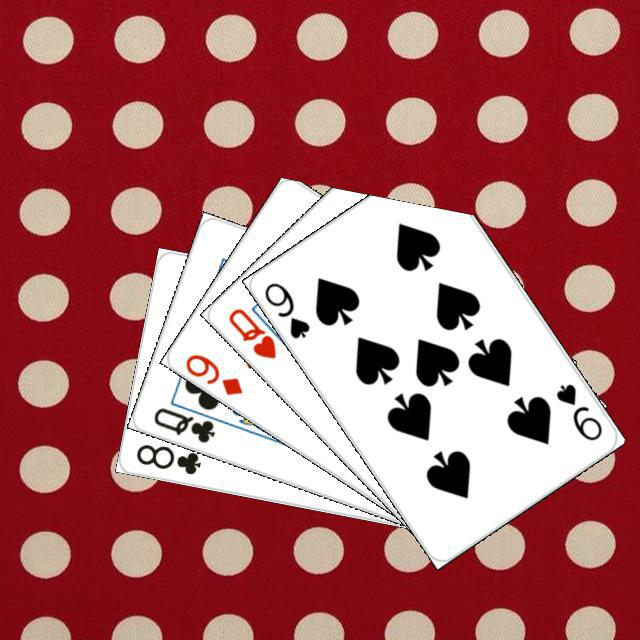8c: (131, 439, 203, 476)
9d: (180, 349, 245, 398)
9s: (551, 378, 604, 443), (259, 277, 312, 341)
Qc: (148, 394, 228, 445)
Qh: (223, 303, 278, 361)
